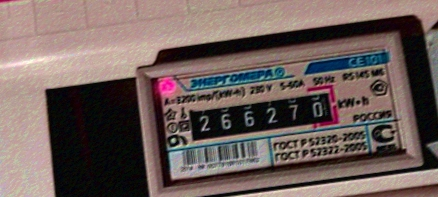0: (310, 100, 324, 118)
2: (196, 113, 211, 133), (264, 105, 277, 124)
6: (241, 109, 256, 128), (219, 111, 233, 130)
7: (287, 102, 300, 121)
screen: (177, 80, 345, 151)
